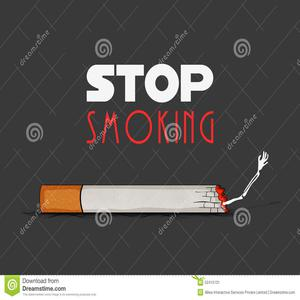cigarette: (37, 181, 244, 222)
